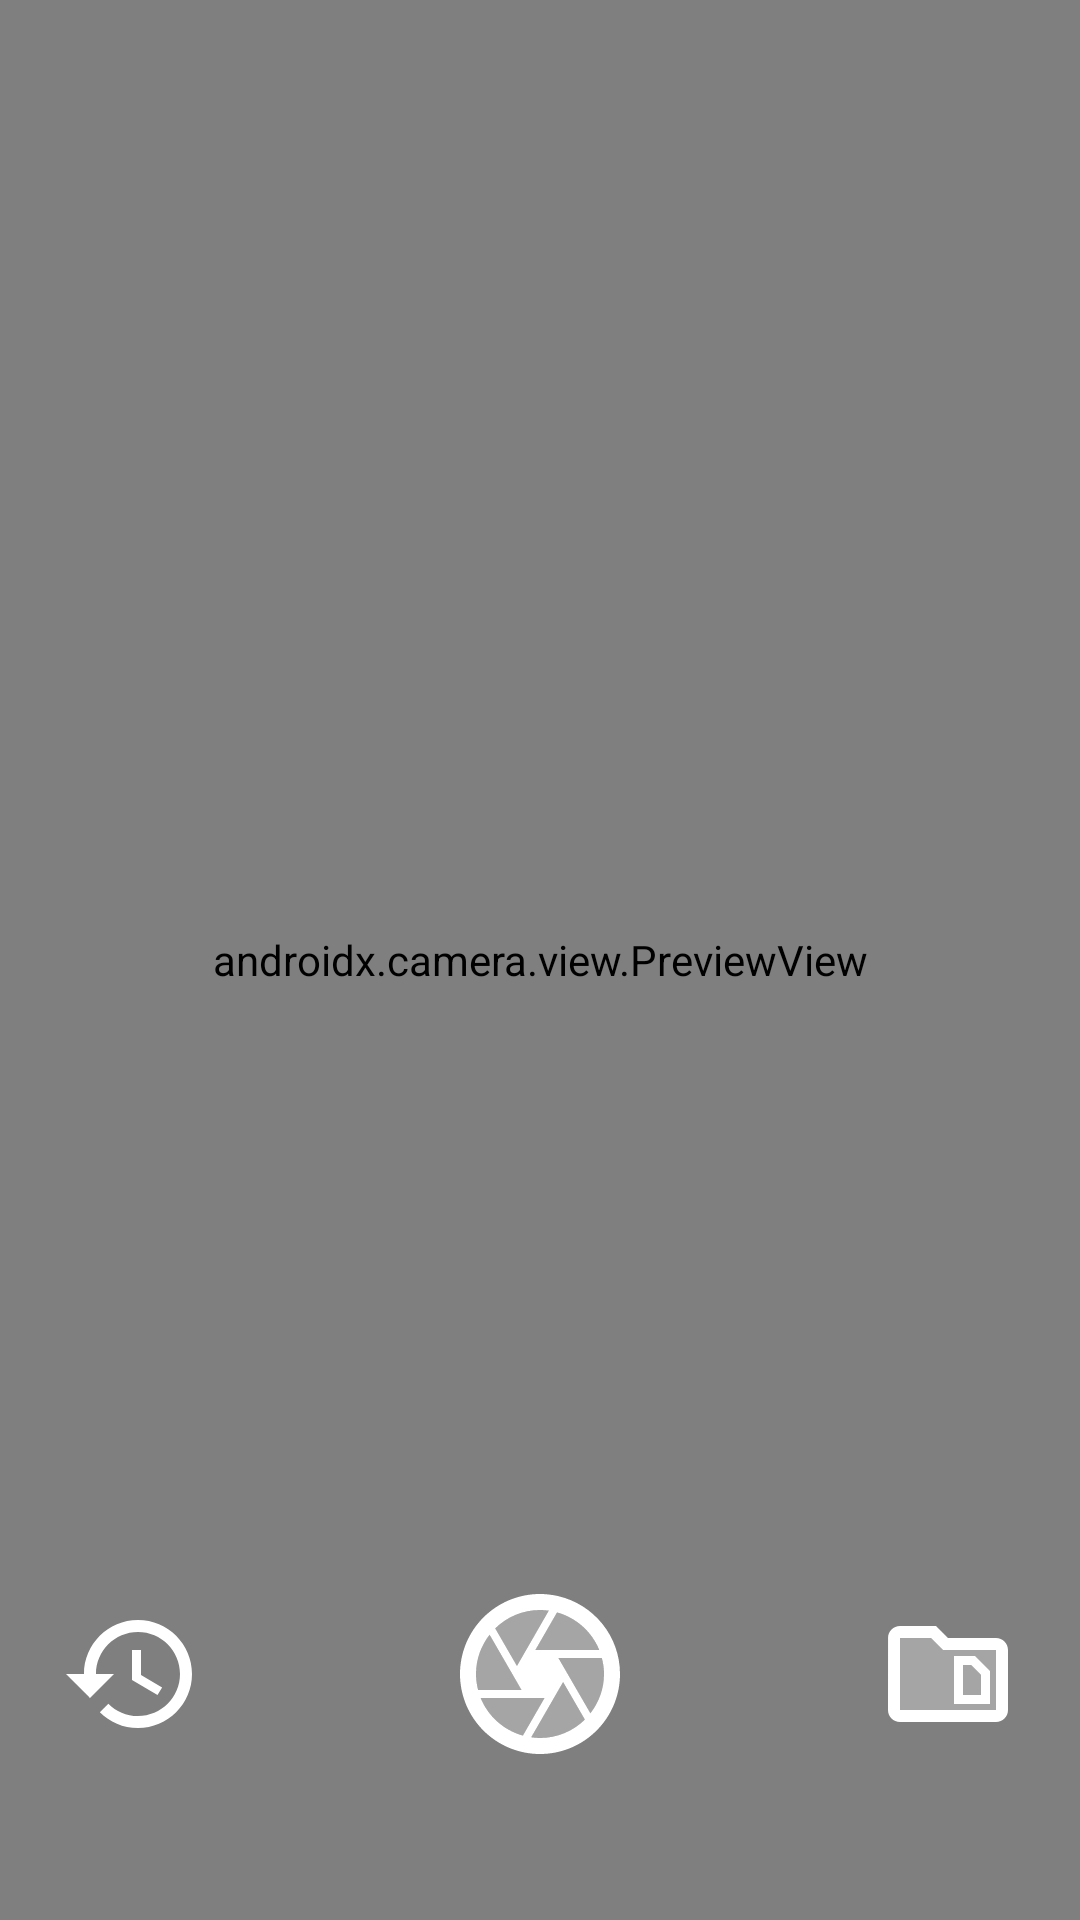

Named icons in this screenshot (1080 × 1920) and their centers, (x=x, y=y):
history: (x=129, y=1674)
snippet folder: (x=948, y=1674)
